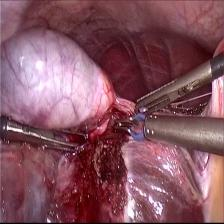Bipolar: (112, 113, 162, 144)
Grasper: (132, 62, 210, 117), (6, 117, 91, 156)
